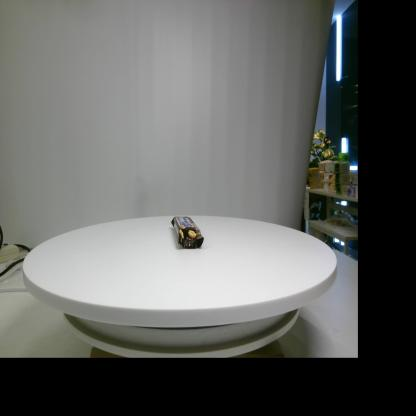Chocolate: (171, 216, 204, 248)
